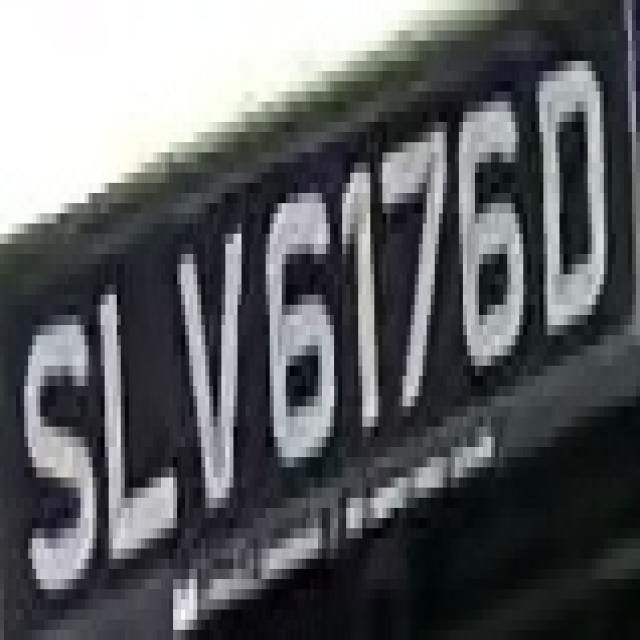1: (330, 102, 386, 457)
6: (254, 152, 338, 488), (455, 71, 531, 386)
7: (366, 102, 455, 447)
D: (531, 31, 612, 356)
L: (89, 274, 181, 579)
S: (20, 284, 93, 600)
V: (169, 203, 258, 528)
